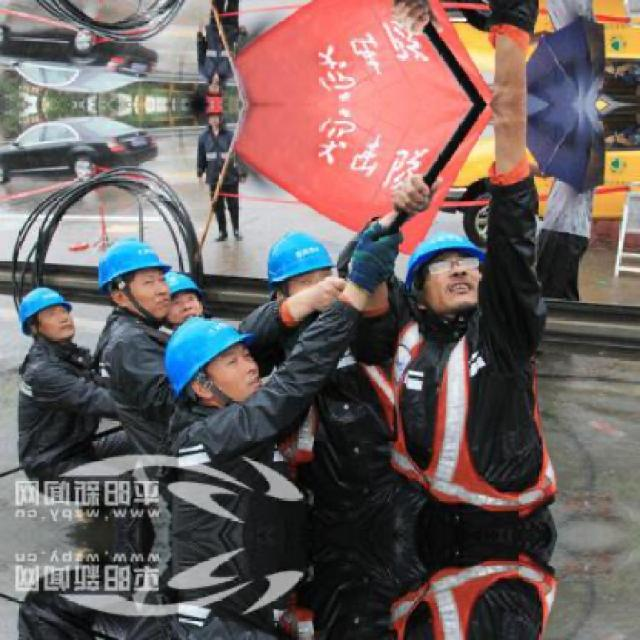con casco: (410, 191, 528, 328), (151, 308, 258, 432), (282, 208, 372, 336), (146, 270, 245, 348), (7, 274, 88, 368), (97, 243, 165, 330)
